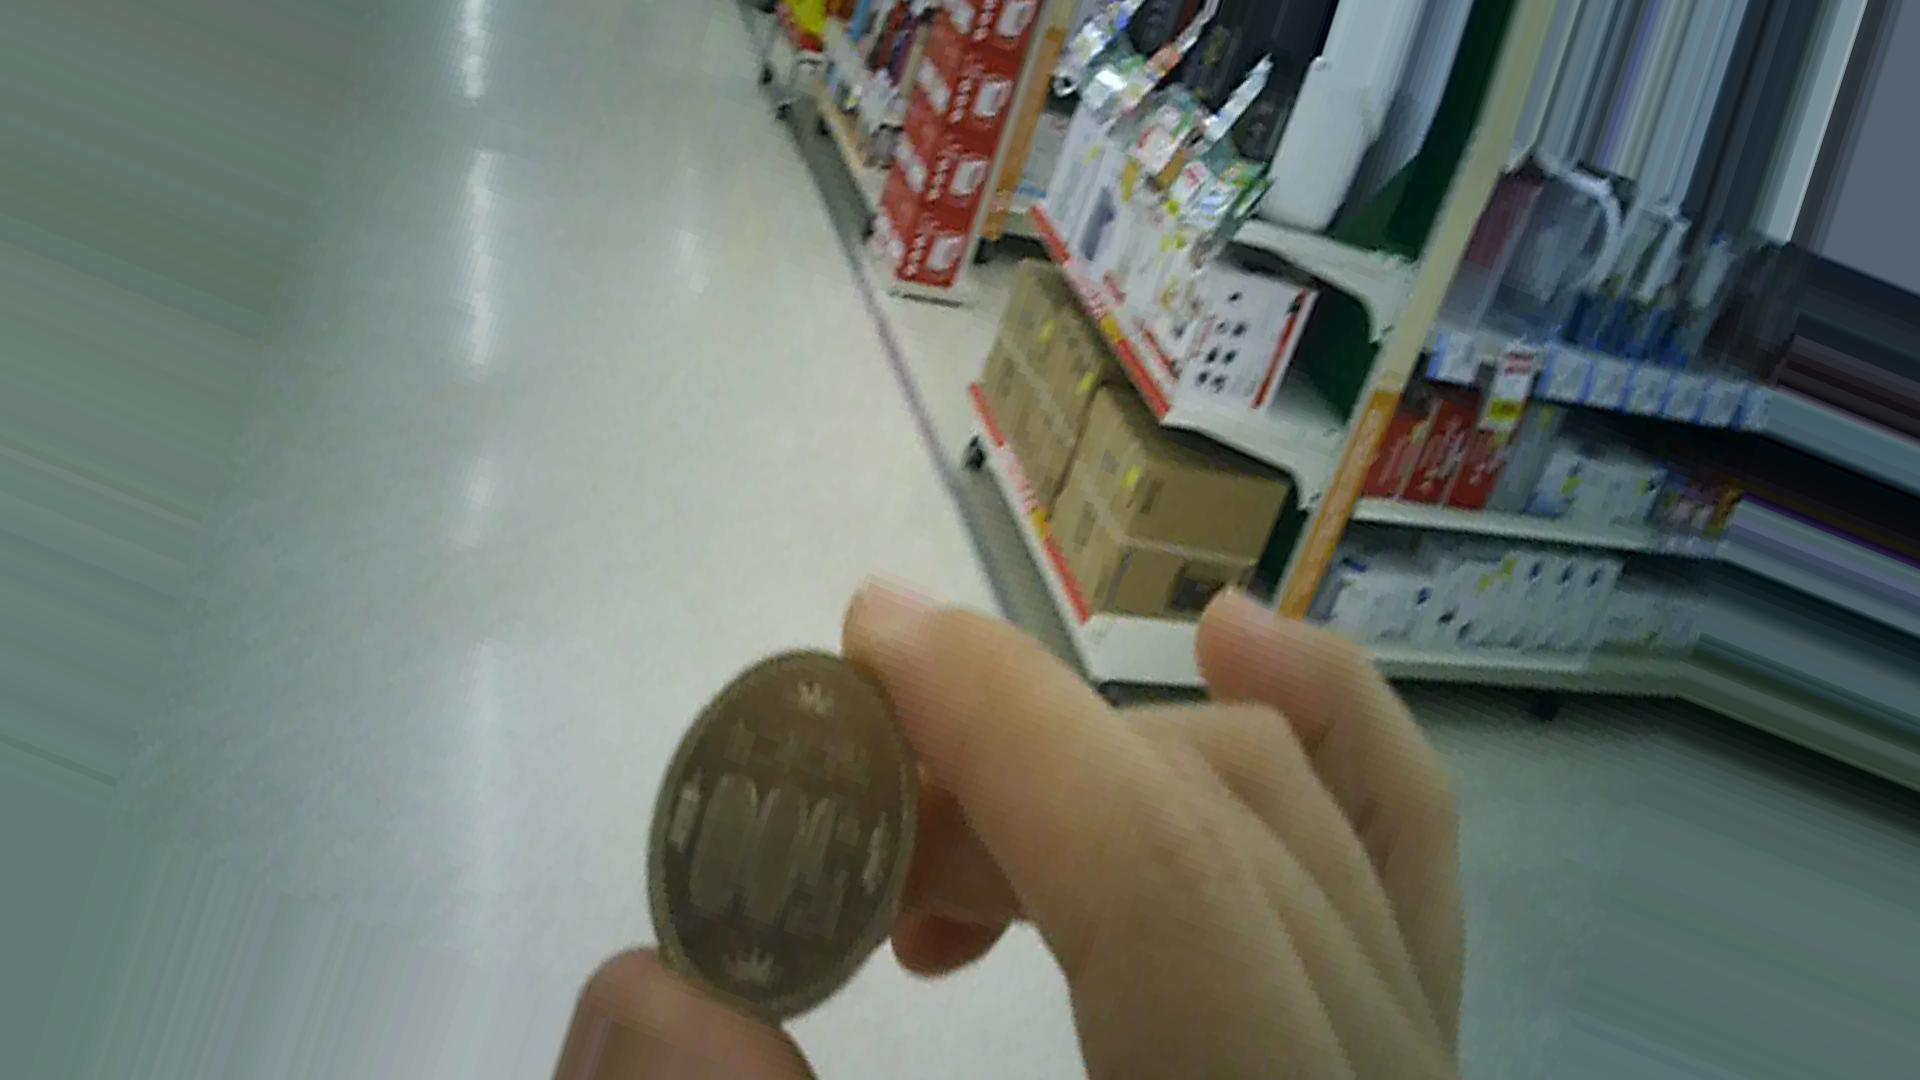500 Yen: (638, 632, 924, 1056)
